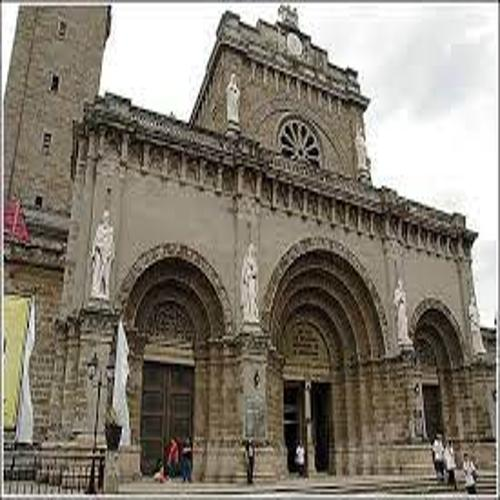Manila Cathedral Church: (6, 6, 491, 488)
